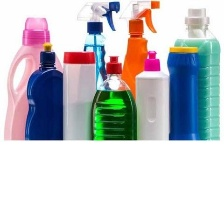cleaning_solution: (3, 14, 67, 183), (171, 6, 222, 174), (74, 0, 122, 162), (114, 0, 162, 161), (88, 54, 142, 186), (22, 38, 70, 184), (165, 44, 203, 190), (133, 47, 171, 187), (61, 49, 98, 184)
